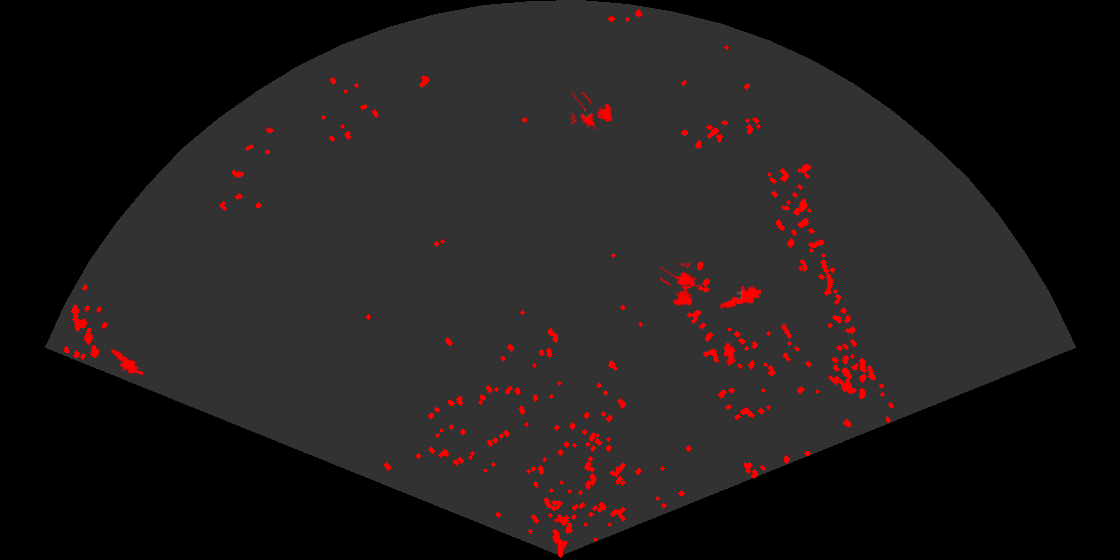AUV: (722, 341, 737, 367)
cage: (660, 263, 701, 308), (571, 92, 614, 131)
frogman: (104, 347, 143, 377), (719, 284, 761, 310)
